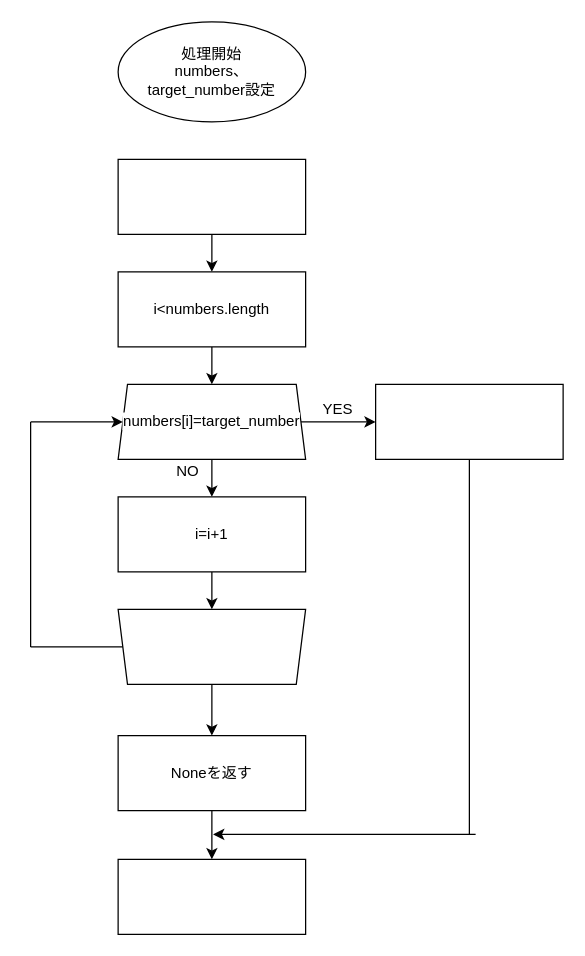
This 585x956 diagram has some shape labels left out. Each missing label, with the centre of its shape:
i=0(iに0を格納する。): point (211, 196)
iを返す: point (468, 421)
終了: point (211, 896)
